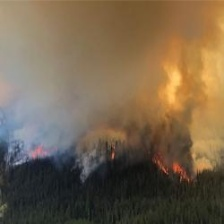fire: (151, 150, 189, 185), (30, 144, 56, 158)
smoke: (1, 2, 217, 136)
